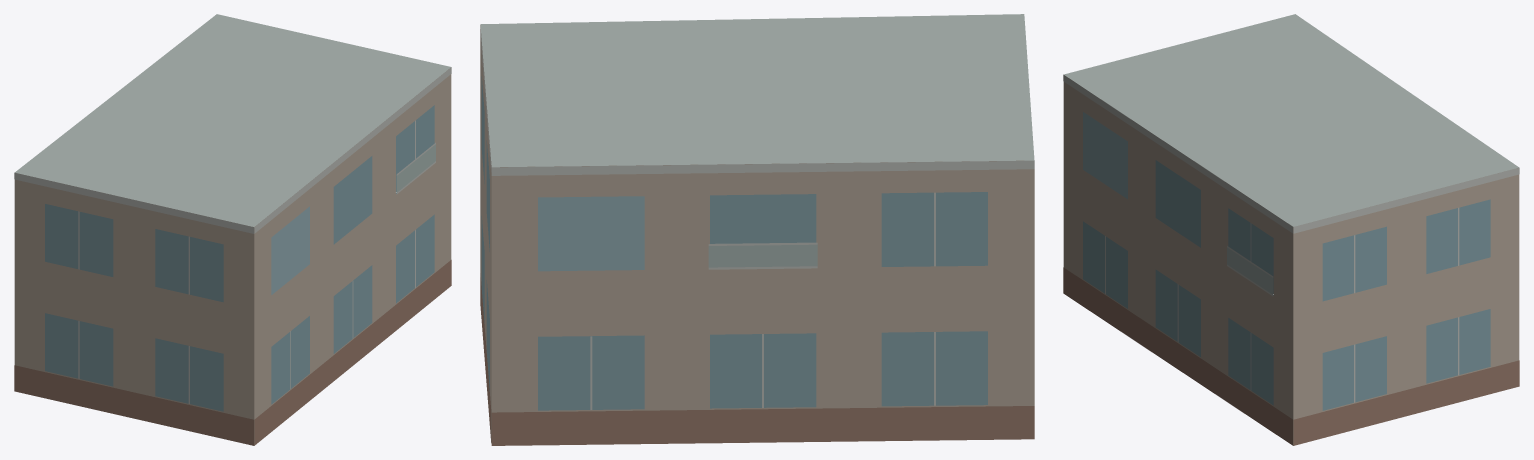
File: survey-upis-32770039.glb
3 views of the same model, side by side, from view 1: azimuth 30°, elevation 25°; view 2: azimuth 150°, elevation 25°; view 3: azimuth 270°, elevation 25° (orthographic). The views are drawn at different scales.
Visible parts, largest first — view 1: survey-upis-32770039.tmp; view 2: survey-upis-32770039.tmp; view 3: survey-upis-32770039.tmp.
Boxes of the visible parts, <box> form: survey-upis-32770039.tmp: <box>14,14,451,445</box>; survey-upis-32770039.tmp: <box>480,14,1034,445</box>; survey-upis-32770039.tmp: <box>1063,14,1519,445</box>.
Bounding box in the file's own units: 16.28 × 7.8 × 14.73.
